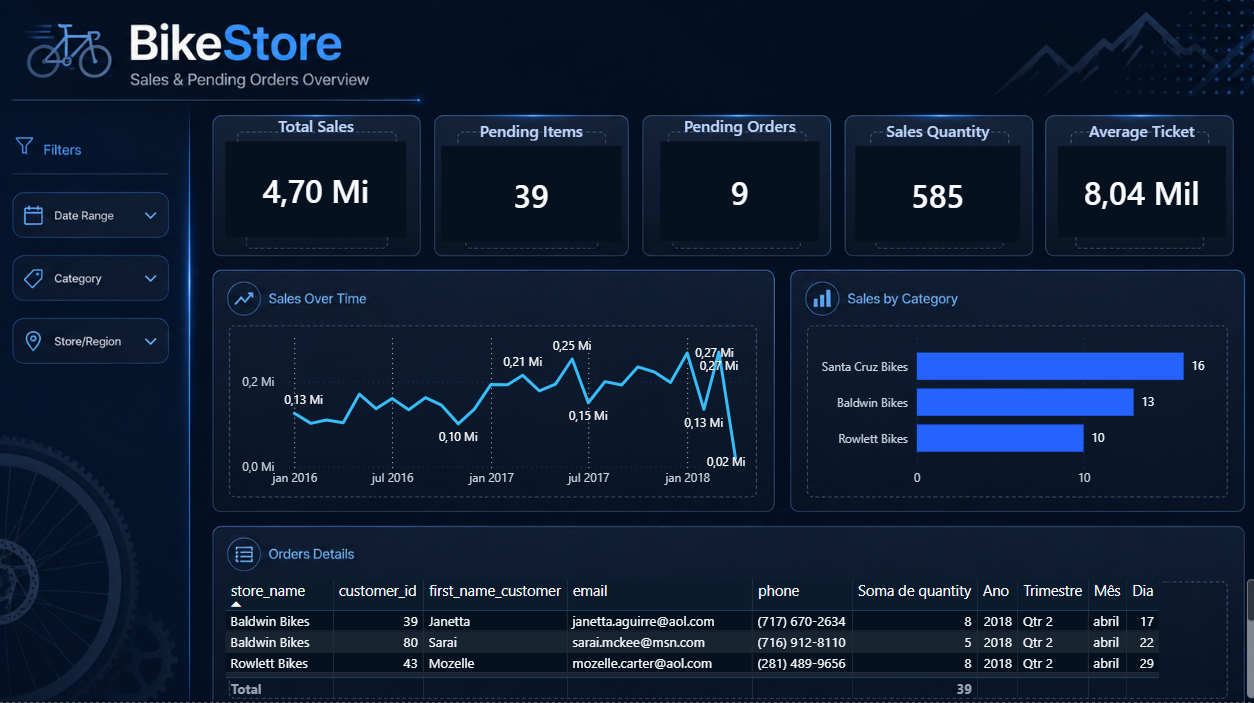

The dashboard page shown, as its layout file describes it:
{"tool":"powerbi","page":{"name":"Página 1","canvas":[1280,720],"ordinal":0},"visuals":[{"type":"cardVisual","title":" Qtd Vendas","fields":{"Data":["Sum(Medidas.Qtd Vendas)"]},"box":[880.9,123.1,200.8,127.9],"z":1},{"type":"cardVisual","title":"Ticket Médio","fields":{"Data":["Sum(Medidas.Ticket Médio)"]},"box":[1101.1,123.1,179.7,123.1],"z":2},{"type":"cardVisual","title":"Pedidos Pendentes","fields":{"Data":["Sum(Medidas.Pedidos Pendentes)"]},"box":[668.7,123.1,189.4,123.1],"z":3},{"type":"cardVisual","title":"Itens Pendentes","fields":{"Data":["Sum(Medidas.Itens Pendentes)"]},"box":[432.3,123.1,207.3,127.9],"z":4},{"type":"lineChart","fields":{"Category":["gold_sales_ny (2).shipped_date.Variation.Hierarquia de datas.Ano","gold_sales_ny (2).shipped_date.Variation.Hierarquia de datas.Mês"],"Y":["Sum(gold_sales_ny (2).total_sale)"]},"box":[208.9,325.5,579.7,184.6],"z":5},{"type":"clusteredBarChart","fields":{"Category":["gold_orders_pending (2).store_name"],"Y":["Sum(gold_orders_pending (2).quantity)"]},"box":[829,325.5,451.8,184.6],"z":6},{"type":"tableEx","fields":{"Values":["gold_orders_pending (2).store_name","gold_orders_pending (2).customer_id","gold_orders_pending (2).first_name_customer","gold_orders_pending (2).email","gold_orders_pending (2).phone","Sum(gold_orders_pending (2).quantity)","gold_orders_pending (2).order_date.Variation.Hierarquia de datas.Ano","gold_orders_pending (2).order_date.Variation.Hierarquia de datas.Trimestre","gold_orders_pending (2).order_date.Variation.Hierarquia de datas.Mês","gold_orders_pending (2).order_date.Variation.Hierarquia de datas.Dia"]},"box":[208.9,589.4,1071.9,131.2],"z":7},{"type":"cardVisual","title":"Total Vendas","fields":{"Data":["Sum(Medidas.Total Vendas)"]},"box":[195.9,127.9,220.2,118.2],"z":8}]}

Visuals, with their boxes in screenshot pixels (x1, y1, x2, y2), scaled from the page's 1280x720 canvas onto the 1254x703 screenshot:
" Qtd Vendas" cardVisual: detection(863, 120, 1060, 245)
"Ticket Médio" cardVisual: detection(1079, 120, 1253, 240)
"Pedidos Pendentes" cardVisual: detection(655, 120, 841, 240)
"Itens Pendentes" cardVisual: detection(424, 120, 627, 245)
lineChart - gold_sales_ny (2).shipped_date.Variation.Hierarquia de datas.Ano x gold_sales_ny (2).shipped_date.Variation.Hierarquia de datas.Mês: detection(205, 318, 773, 498)
clusteredBarChart - gold_orders_pending (2).store_name x Sum(gold_orders_pending (2).quantity): detection(812, 318, 1253, 498)
tableEx - gold_orders_pending (2).store_name x gold_orders_pending (2).customer_id: detection(205, 575, 1253, 702)
"Total Vendas" cardVisual: detection(192, 125, 408, 240)
